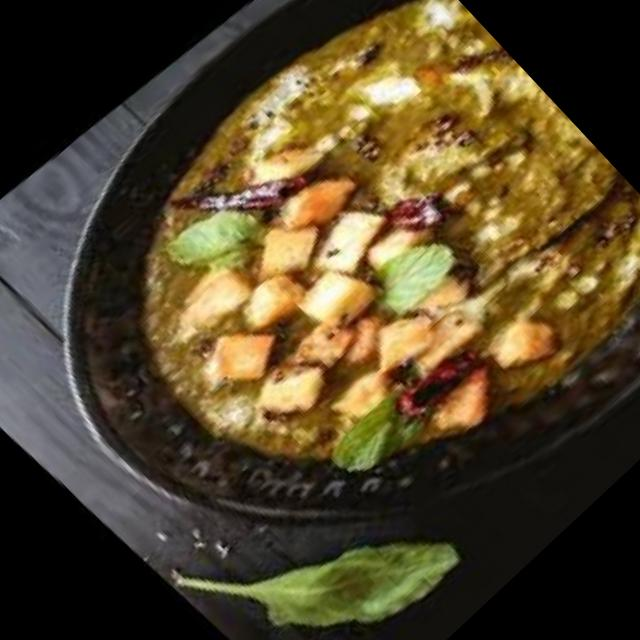palak_paneer: (33, 0, 640, 594)
